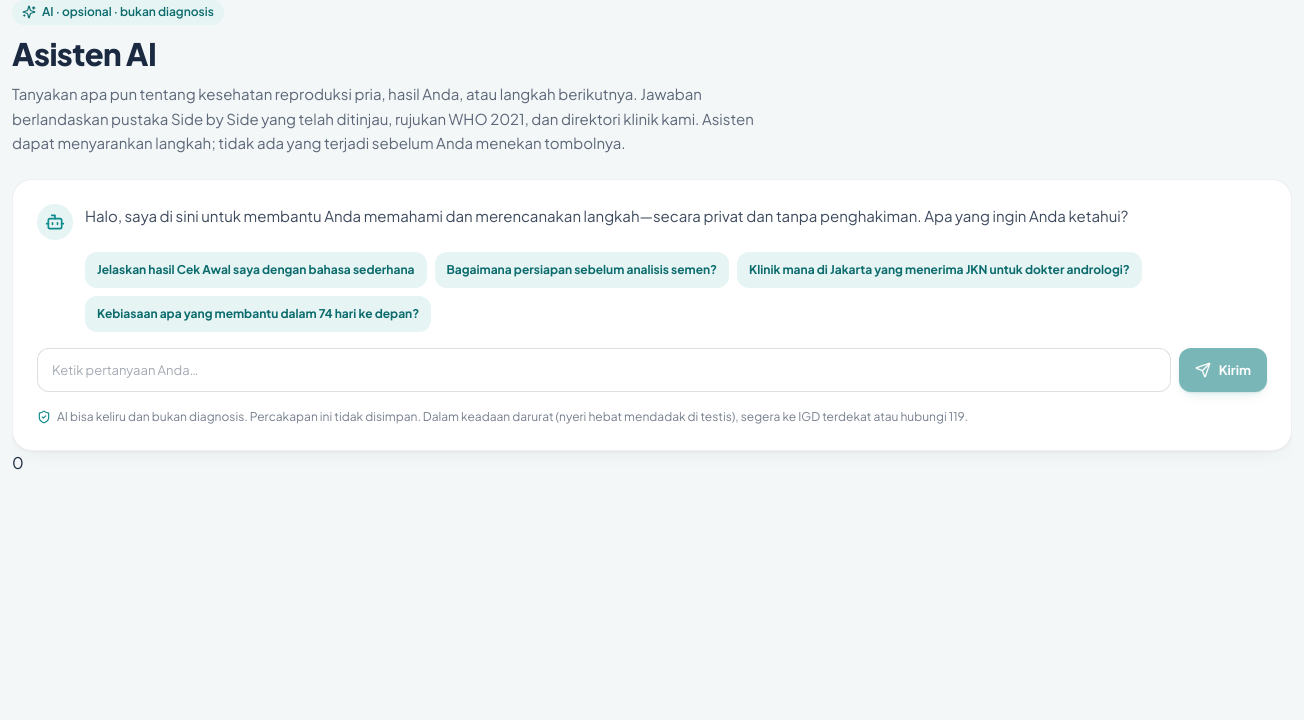
Test: AI features (UI) › companion answers with sources and suggested actions that only run when pressed, sending no identity
Expected: the button "Jelaskan hasil Cek Awal saya dengan bahasa sederhana" is shown, [85,252,426,288]
Type "Apa persiapan sebelum analisis semen?" into the field labelled "Ketik pertanyaan Anda…" at {"x": 604, "y": 370}, box [37,348,1171,392]
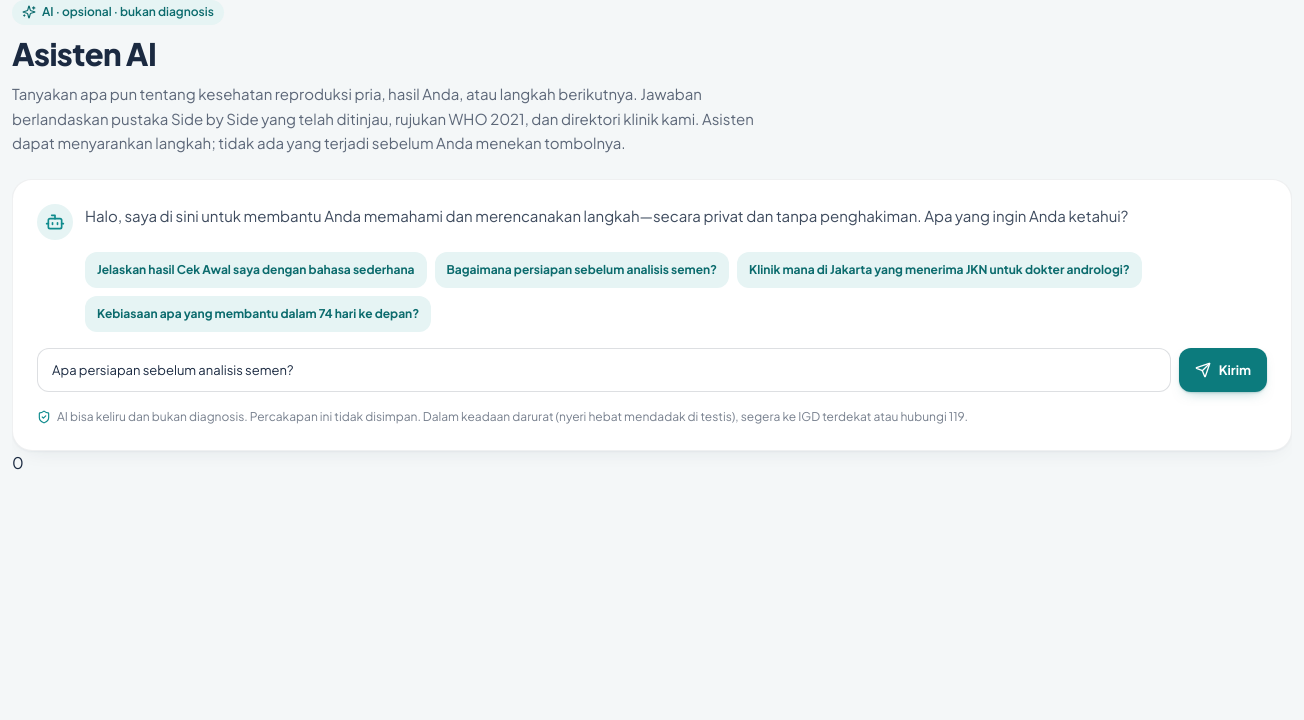
Click the button "Kirim" at {"x": 1223, "y": 370}, box [1179,348,1267,392]
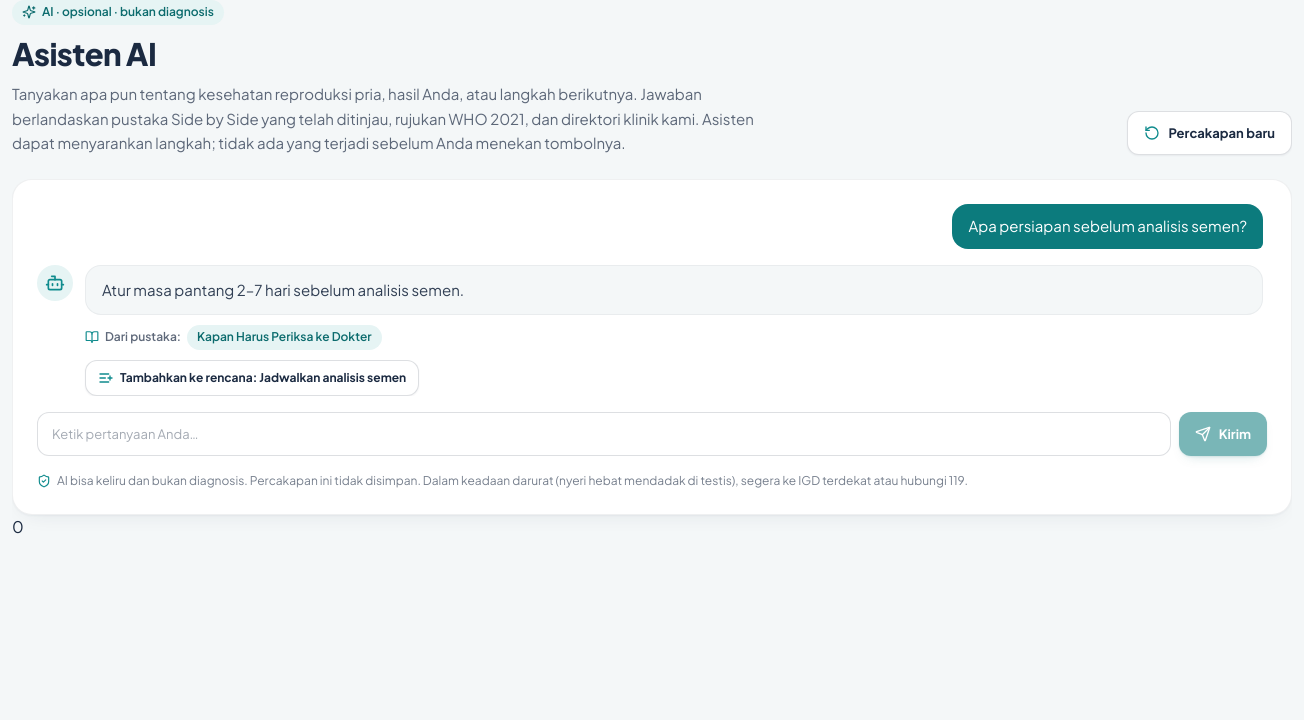
Expected: the text with test id "plan-count" reads "0", [12,516,24,537]
Now the element with test id "companion-reply" shows "Atur masa pantang 2–7 hari", box [102,280,464,299]
Now the button "Kapan Harus Periksa ke Dokter" is shown, box [187,325,382,350]
Click the button "Tambahkan ke rencana: Jadwalkan analisis semen" at {"x": 252, "y": 378}, box [85,360,419,396]
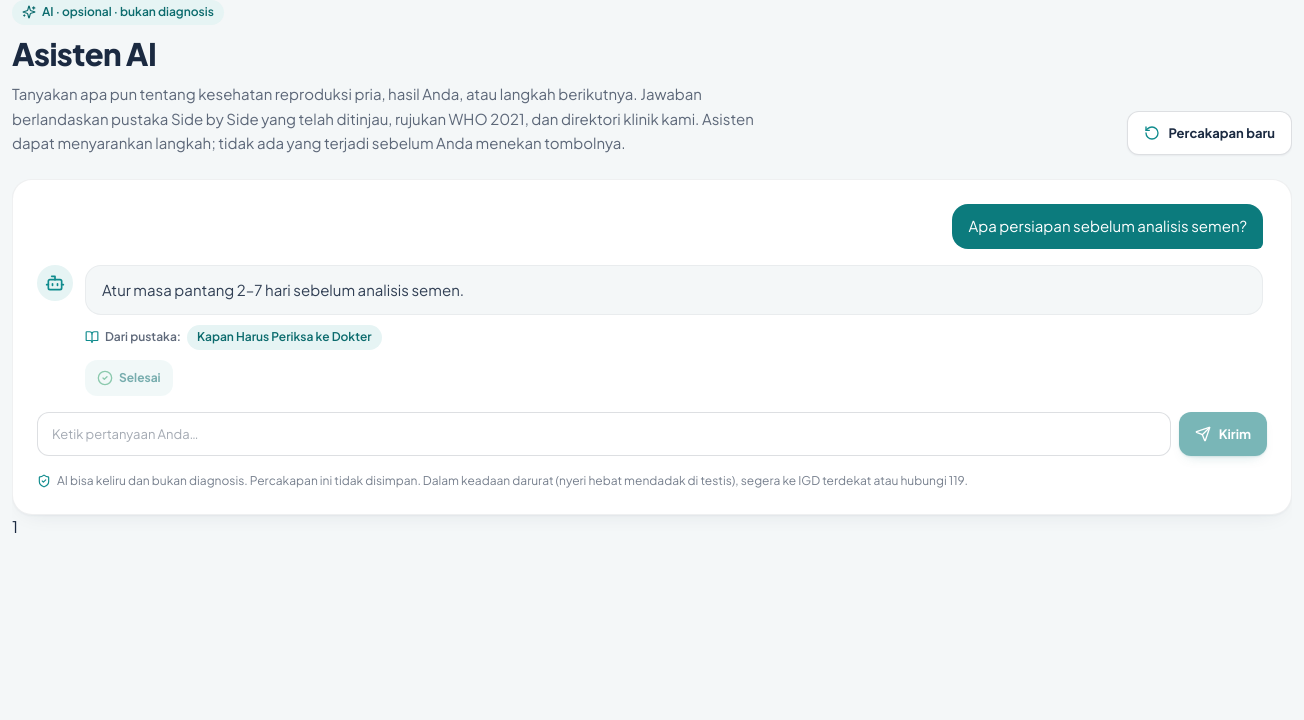
Now the text with test id "plan-count" reads "1", box [12,516,18,537]
Now the button "Selesai" is disabled, box [85,360,173,396]
